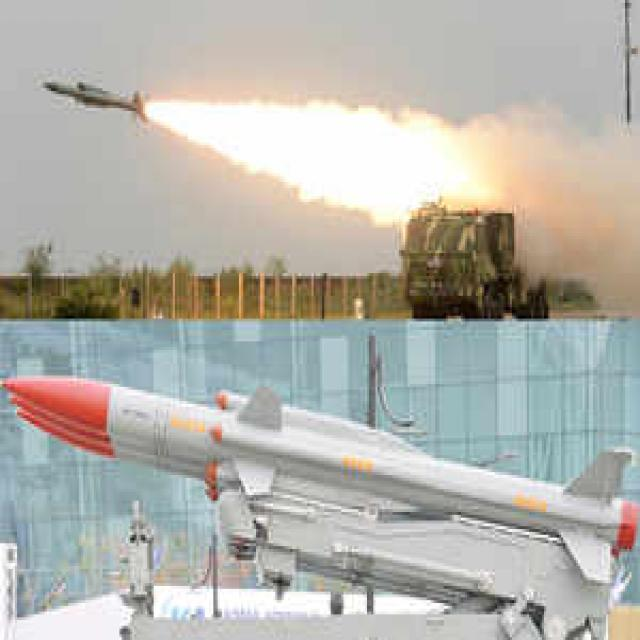Missile: (205, 410, 635, 540), (30, 68, 155, 128)
